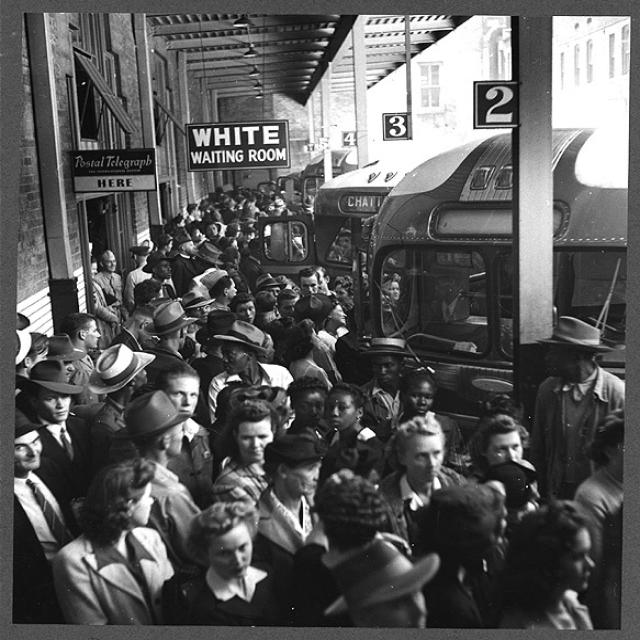body: (6, 178, 472, 389), (49, 457, 184, 626), (380, 478, 516, 639), (108, 387, 216, 580), (293, 524, 468, 639), (156, 496, 302, 628), (527, 314, 627, 502), (306, 469, 417, 628), (12, 404, 87, 625), (14, 356, 100, 512), (495, 500, 597, 630), (376, 413, 470, 542), (250, 424, 332, 568), (571, 406, 623, 630), (372, 367, 471, 478), (312, 381, 388, 511), (152, 361, 216, 512), (72, 388, 296, 429), (210, 397, 288, 503), (355, 336, 418, 421), (482, 462, 541, 540), (283, 372, 337, 454), (466, 412, 534, 473), (479, 478, 509, 545)
